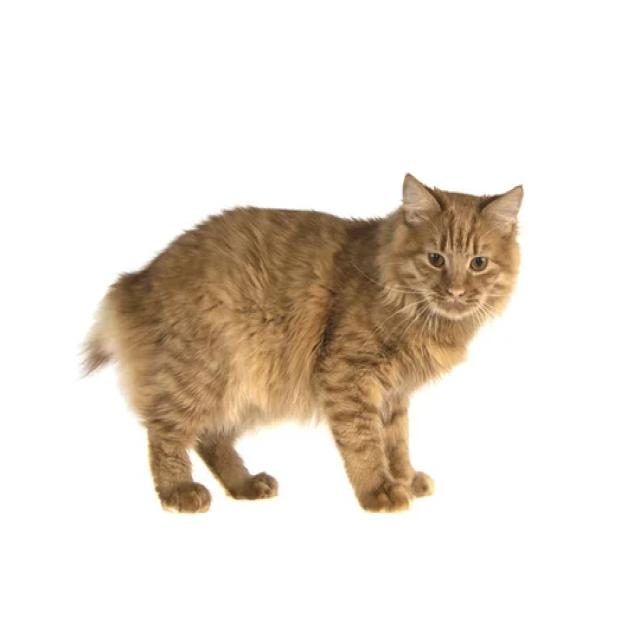American Bobtail: (78, 163, 527, 520)
